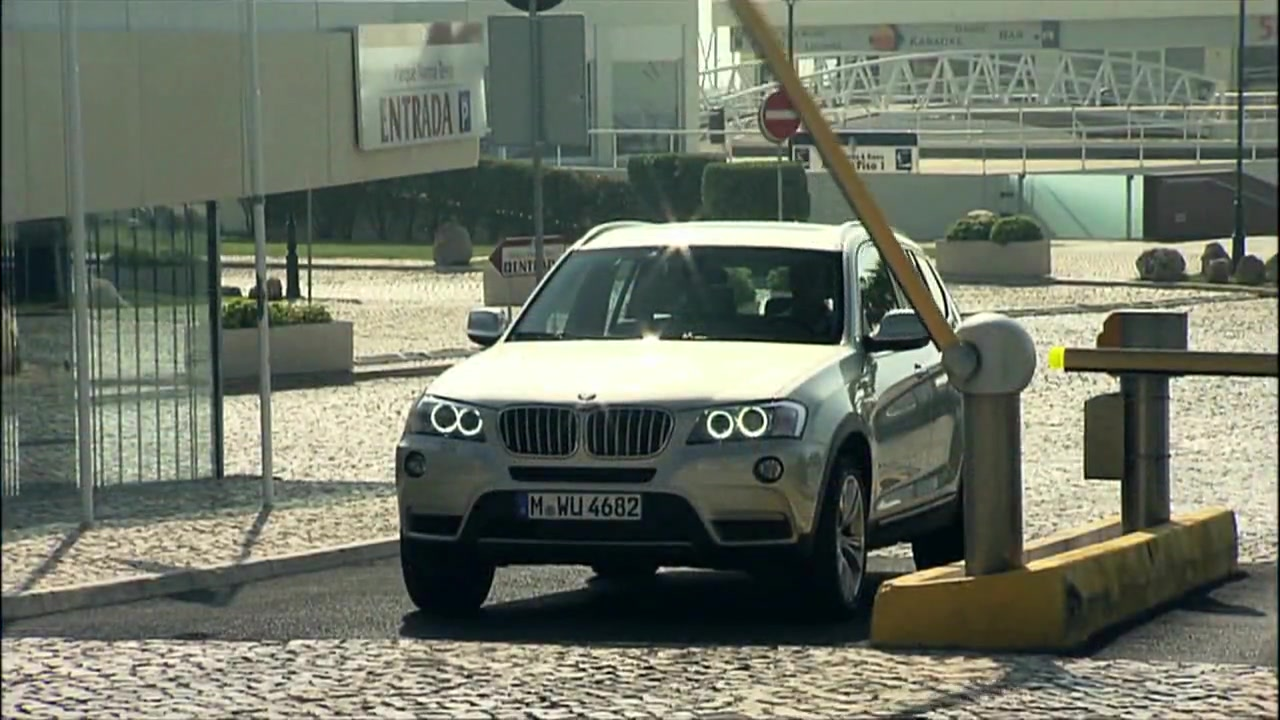car: (396, 219, 966, 613)
